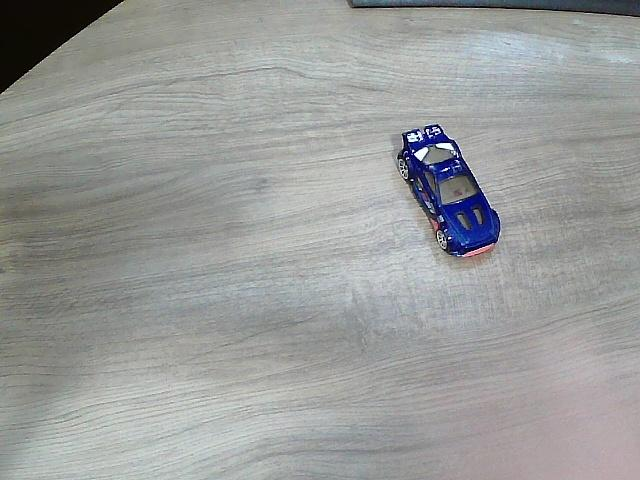Carro: (395, 125, 500, 259)
